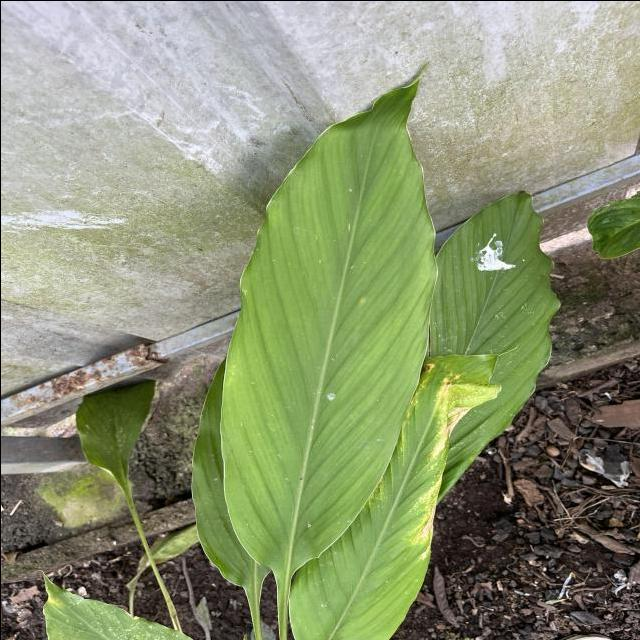Curcuma longa: (213, 53, 442, 583), (427, 182, 565, 509)
